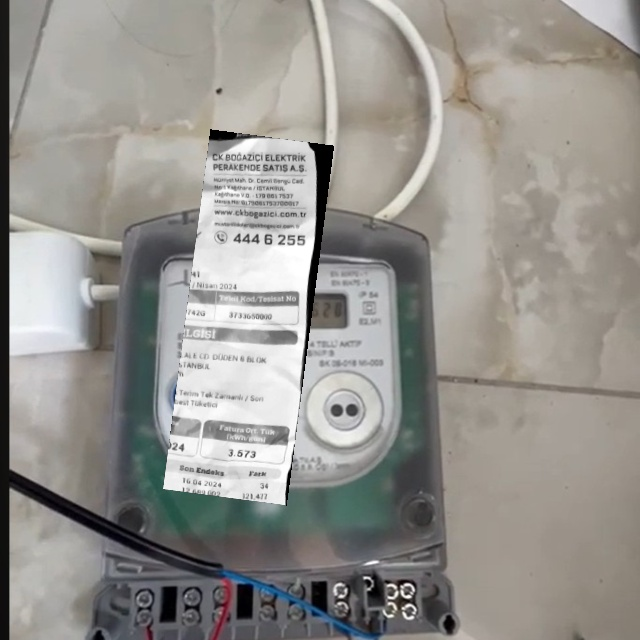electricity-bill: (162, 128, 334, 505)
